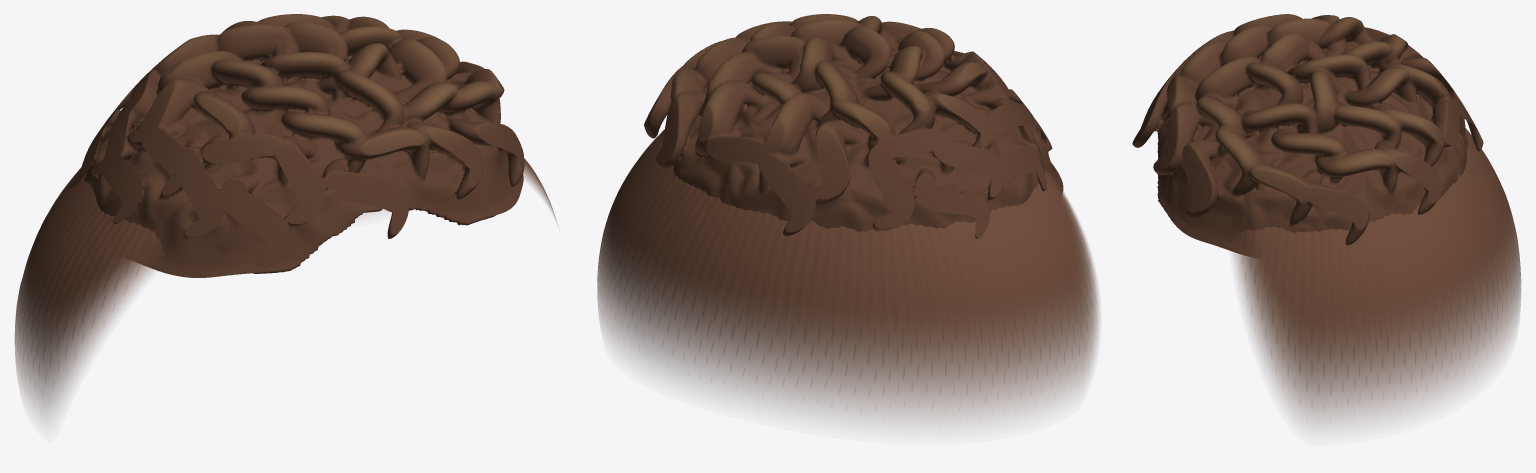
The model's file is Masculine-curly-top-beanie257-hair-ombre.glb.
The picture shows the model from 3 angles, left to right: view 1: azimuth 30°, elevation 25°; view 2: azimuth 150°, elevation 25°; view 3: azimuth 270°, elevation 25°; orthographic projection. The views are drawn at different scales.
Visible parts, largest first — view 1: 226 hair / Hair252 / sculpted curl groups, 226 hair / Hair257 / smooth side fade, 226 hair / Hair257 / directional fade marks; view 2: 226 hair / Hair257 / smooth side fade, 226 hair / Hair252 / sculpted curl groups, 226 hair / Hair257 / directional fade marks; view 3: 226 hair / Hair252 / sculpted curl groups, 226 hair / Hair257 / smooth side fade, 226 hair / Hair257 / directional fade marks.
Part boxes in pixels (left/top/right/bottom): 226 hair / Hair252 / sculpted curl groups: left=68, top=14, right=524, bottom=277; 226 hair / Hair257 / smooth side fade: left=15, top=158, right=557, bottom=419; 226 hair / Hair257 / directional fade marks: left=16, top=160, right=534, bottom=370; 226 hair / Hair257 / smooth side fade: left=597, top=129, right=1099, bottom=424; 226 hair / Hair252 / sculpted curl groups: left=644, top=14, right=1063, bottom=238; 226 hair / Hair257 / directional fade marks: left=602, top=130, right=1091, bottom=393; 226 hair / Hair252 / sculpted curl groups: left=1132, top=14, right=1483, bottom=256; 226 hair / Hair257 / smooth side fade: left=1231, top=128, right=1520, bottom=426; 226 hair / Hair257 / directional fade marks: left=1241, top=128, right=1516, bottom=392.
Bounding box in the file's own units: 0.9723 × 0.665 × 0.7431.
